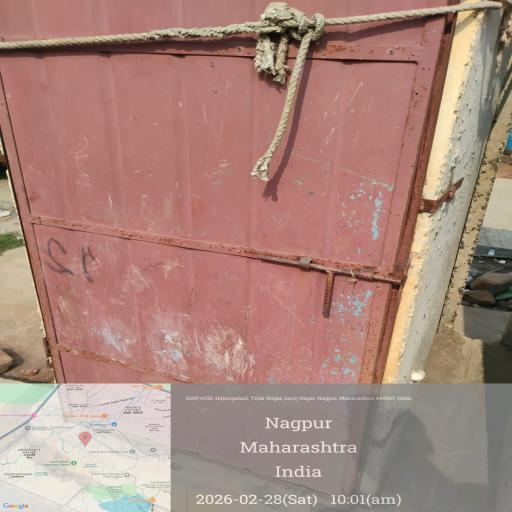partial_dirty_floor: (79, 74, 429, 501)
